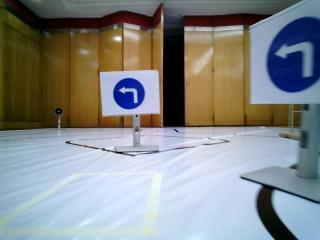left: (257, 9, 320, 100), (110, 76, 155, 111)
